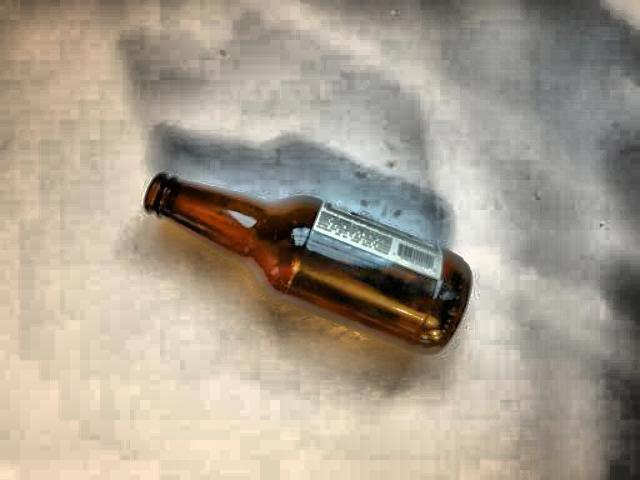Bottles: (146, 165, 495, 372)
